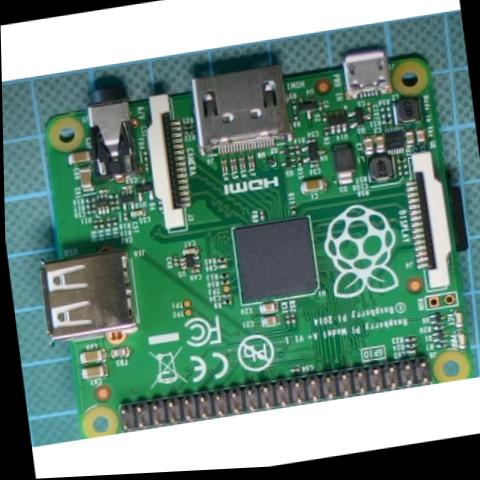Raspberry-Pi-1-Model-A-: (2, 13, 480, 445)
